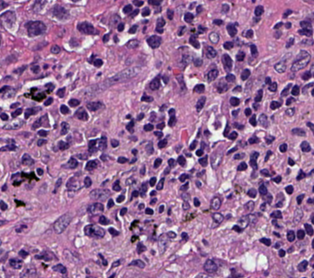nucleus: (104, 66, 140, 86), (53, 214, 71, 233), (25, 21, 45, 35), (85, 224, 104, 237), (50, 5, 67, 19), (89, 189, 109, 200), (77, 22, 94, 34), (3, 119, 23, 129), (66, 176, 80, 190), (147, 35, 161, 48), (211, 150, 221, 168), (88, 202, 103, 214), (0, 86, 14, 98), (158, 234, 167, 252), (2, 11, 14, 24), (75, 107, 87, 120), (222, 54, 231, 70), (149, 77, 160, 90), (250, 152, 258, 169), (196, 96, 205, 111), (97, 135, 106, 150), (22, 153, 33, 165), (32, 1, 45, 11), (211, 196, 221, 209), (177, 74, 185, 90), (86, 102, 102, 110), (238, 216, 249, 227), (189, 36, 199, 48), (32, 117, 42, 129), (86, 160, 98, 170), (206, 46, 216, 57), (274, 62, 285, 72), (207, 69, 217, 80), (217, 81, 227, 92), (66, 158, 77, 168), (227, 24, 236, 36), (126, 39, 138, 48), (88, 140, 97, 152), (259, 114, 267, 127), (209, 32, 218, 43), (25, 108, 36, 117), (212, 213, 223, 222), (60, 122, 68, 134), (54, 178, 61, 191), (225, 73, 235, 82), (12, 108, 22, 117), (58, 141, 68, 150), (1, 144, 16, 150), (244, 201, 254, 210), (255, 90, 262, 102), (126, 120, 133, 132), (140, 182, 147, 194), (276, 194, 283, 206), (184, 13, 193, 22), (247, 188, 256, 197), (99, 215, 108, 224), (255, 6, 263, 16), (111, 14, 119, 24), (156, 18, 164, 28), (241, 69, 249, 79), (194, 84, 204, 92), (57, 87, 65, 97), (270, 101, 280, 109), (199, 156, 207, 166), (259, 184, 267, 194), (271, 210, 281, 218), (250, 44, 257, 55), (14, 66, 25, 73), (68, 99, 79, 106), (146, 142, 153, 153), (156, 178, 163, 189), (51, 45, 60, 53), (236, 51, 244, 60), (182, 55, 190, 64), (93, 59, 102, 67), (230, 97, 239, 105), (60, 105, 69, 113), (228, 131, 237, 139), (265, 135, 274, 143), (158, 139, 166, 148), (177, 156, 185, 165), (237, 162, 246, 170), (223, 41, 233, 48), (249, 115, 256, 125), (168, 116, 175, 126), (248, 136, 258, 143), (84, 177, 91, 187), (113, 180, 120, 190), (232, 225, 242, 232), (108, 228, 118, 235), (260, 238, 270, 245), (141, 95, 152, 101), (123, 5, 131, 13), (129, 25, 137, 33), (193, 58, 201, 66), (44, 97, 52, 105), (269, 82, 276, 91), (35, 93, 44, 100), (144, 124, 153, 131), (154, 158, 161, 167), (260, 169, 269, 176), (179, 174, 188, 181), (133, 0, 143, 6), (167, 9, 173, 19), (117, 157, 127, 163), (0, 200, 6, 210), (142, 8, 149, 16), (31, 65, 39, 72), (156, 122, 164, 129), (189, 141, 196, 149), (273, 175, 281, 182), (180, 183, 188, 190), (116, 195, 124, 202), (167, 231, 175, 238), (213, 19, 222, 25), (178, 26, 184, 35), (10, 102, 19, 108), (38, 130, 47, 136), (37, 139, 46, 145), (227, 147, 236, 153), (265, 151, 271, 160), (234, 153, 243, 159), (148, 0, 161, 4), (224, 125, 229, 135), (117, 23, 124, 30), (198, 25, 205, 32), (274, 31, 281, 38), (1, 113, 8, 120), (111, 139, 118, 146), (222, 4, 228, 12), (274, 22, 282, 28), (246, 29, 252, 37), (149, 112, 155, 120), (154, 131, 162, 137), (168, 158, 174, 166), (149, 177, 155, 185), (107, 199, 113, 207), (120, 207, 126, 215), (234, 123, 243, 128), (16, 226, 25, 231), (0, 1, 7, 7), (131, 10, 138, 16), (168, 109, 174, 116), (137, 113, 143, 120), (196, 149, 202, 156), (36, 168, 42, 175), (182, 193, 188, 200), (183, 202, 189, 209), (145, 208, 152, 214), (272, 221, 279, 227), (181, 232, 187, 239), (266, 194, 271, 202), (194, 198, 199, 206), (132, 191, 138, 197), (150, 198, 156, 204), (103, 34, 108, 41), (265, 77, 270, 84), (233, 86, 240, 91), (245, 108, 250, 115), (260, 203, 265, 210), (159, 205, 164, 212), (140, 166, 144, 174), (189, 2, 194, 8), (197, 6, 202, 12), (232, 110, 238, 115), (138, 203, 143, 209), (131, 236, 137, 241), (156, 29, 163, 33), (163, 75, 167, 82), (150, 190, 155, 195), (164, 168, 168, 174), (132, 149, 136, 154), (101, 155, 105, 160), (130, 158, 135, 162), (196, 181, 200, 186), (275, 243, 279, 247), (2, 185, 5, 190), (205, 131, 208, 135)
